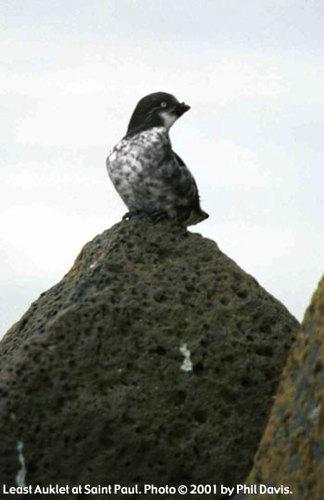006.Least_Auklet: (106, 90, 210, 231)
